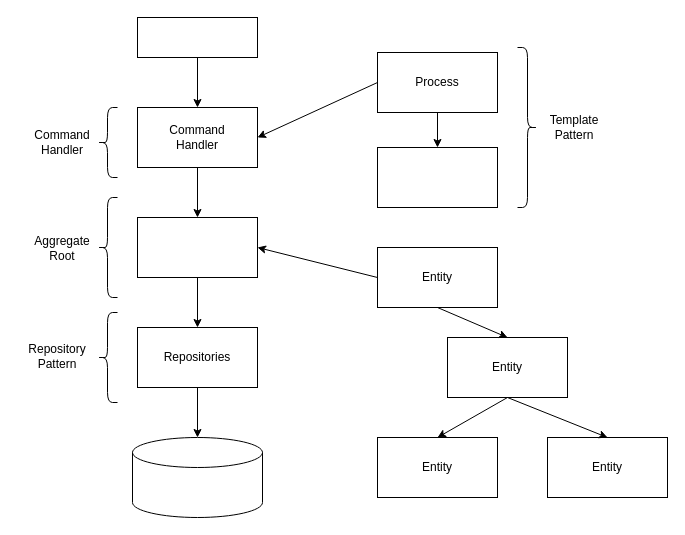
Image size: 685x535. Some labels were removed from this diagram. Each missing label, with the centre of its shape:
AggregateRoot: pixel 197 247
Database: pixel 197 477
ProcessSteps: pixel 437 177
RESP API: pixel 197 37
